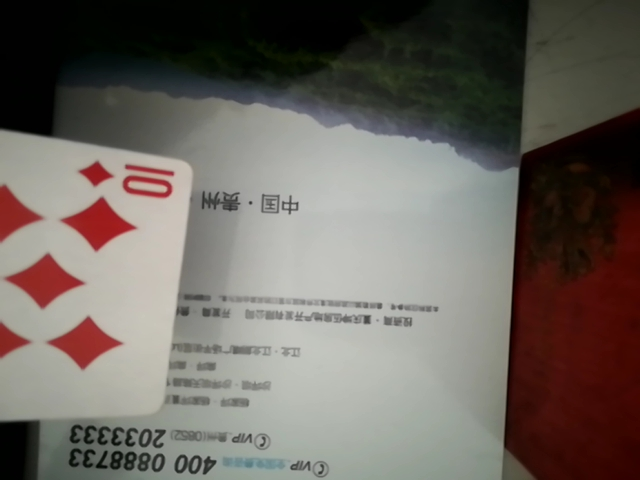fk 10: (0, 111, 204, 429)
